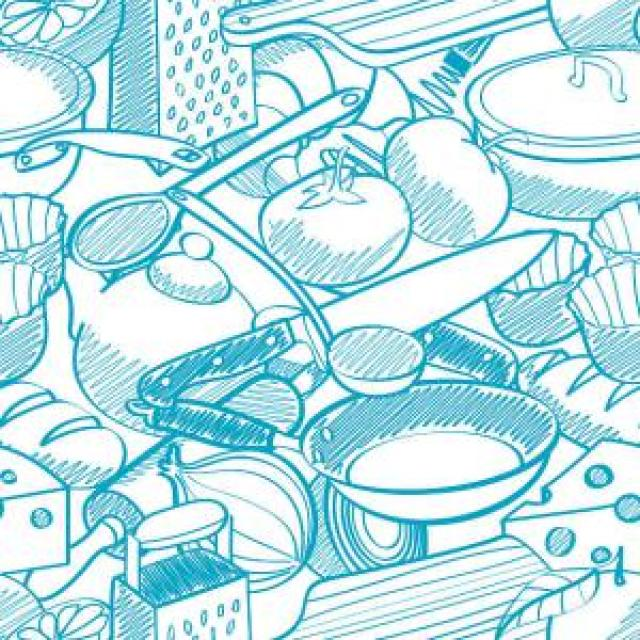knife: (141, 226, 558, 419)
